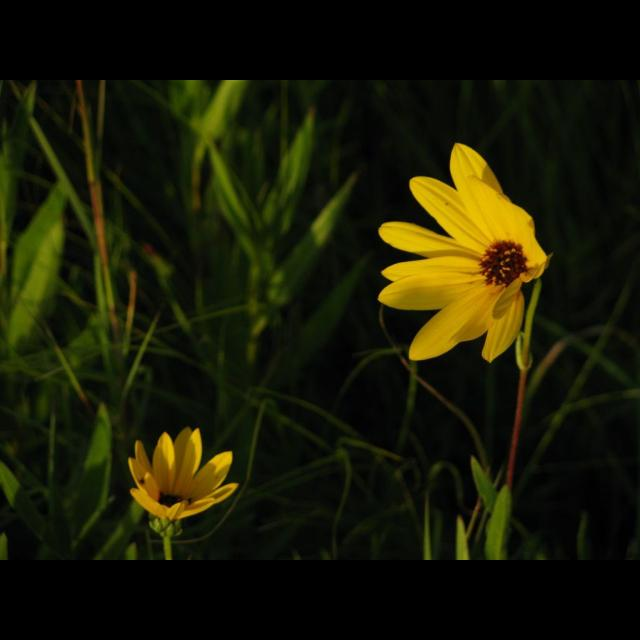Flower: (377, 142, 547, 360), (118, 420, 250, 542)
